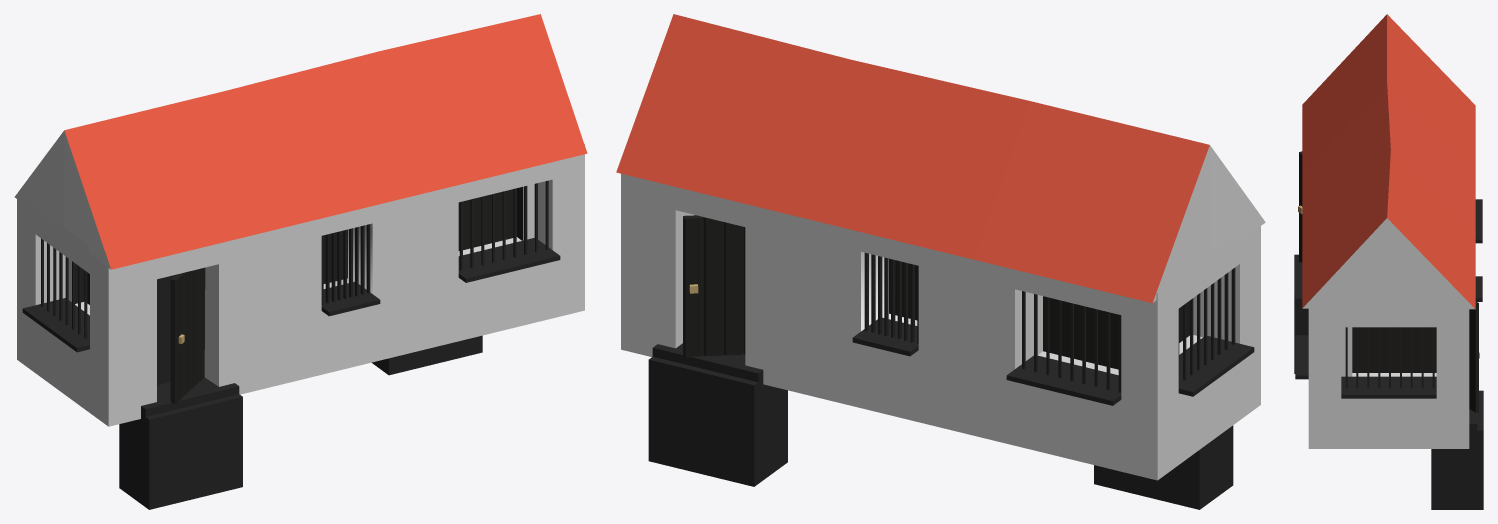
File: casa_procedural_relleno_4.fbx
The picture shows the model from 3 angles, left to right: view 1: azimuth 30°, elevation 25°; view 2: azimuth 150°, elevation 25°; view 3: azimuth 270°, elevation 25°; orthographic projection. The views are drawn at different scales.
Visible parts, largest first — view 1: casa procedural_relleno_4; view 2: casa procedural_relleno_4; view 3: casa procedural_relleno_4.
Boxes of the visible parts, bbox=[...] form: casa procedural_relleno_4: bbox=[14, 14, 587, 509]; casa procedural_relleno_4: bbox=[616, 14, 1265, 509]; casa procedural_relleno_4: bbox=[1294, 14, 1483, 509].
Size of the model in its own units: 316 by 210 by 118.
